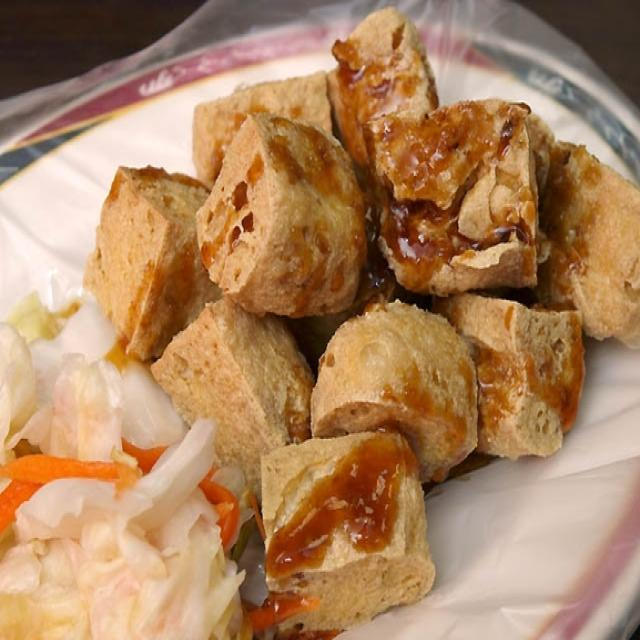豆腐料理: (11, 18, 633, 631)
